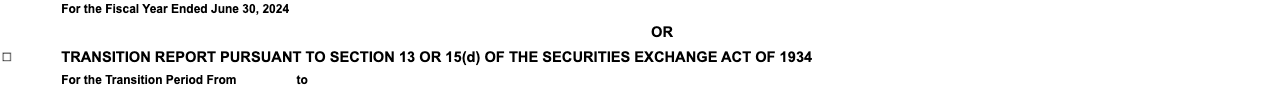table column: (60, 0, 1264, 89), (0, 0, 60, 89)
table row: (0, 47, 1264, 67), (0, 23, 1264, 42), (0, 0, 1264, 18), (0, 72, 1264, 89), (0, 18, 1264, 23), (0, 42, 1264, 47), (0, 67, 1264, 72)
